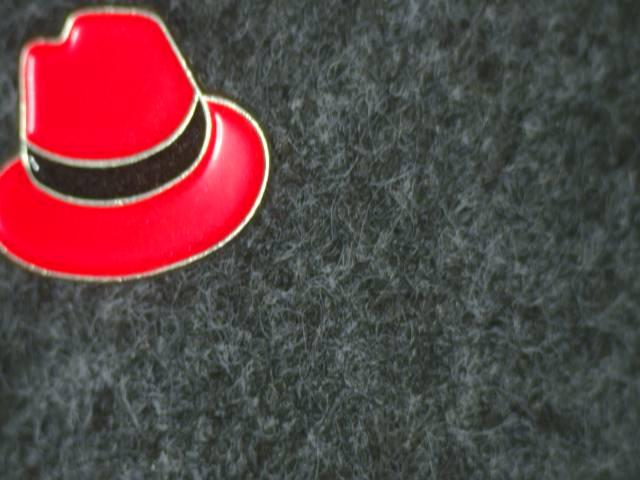Red-Hat: (0, 0, 296, 323)
